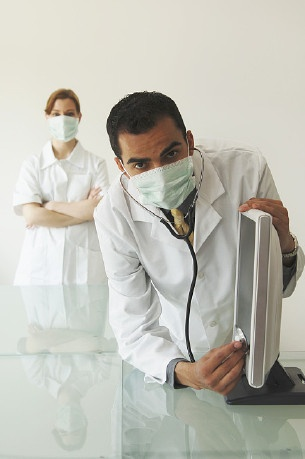Mask: (45, 105, 84, 143)
